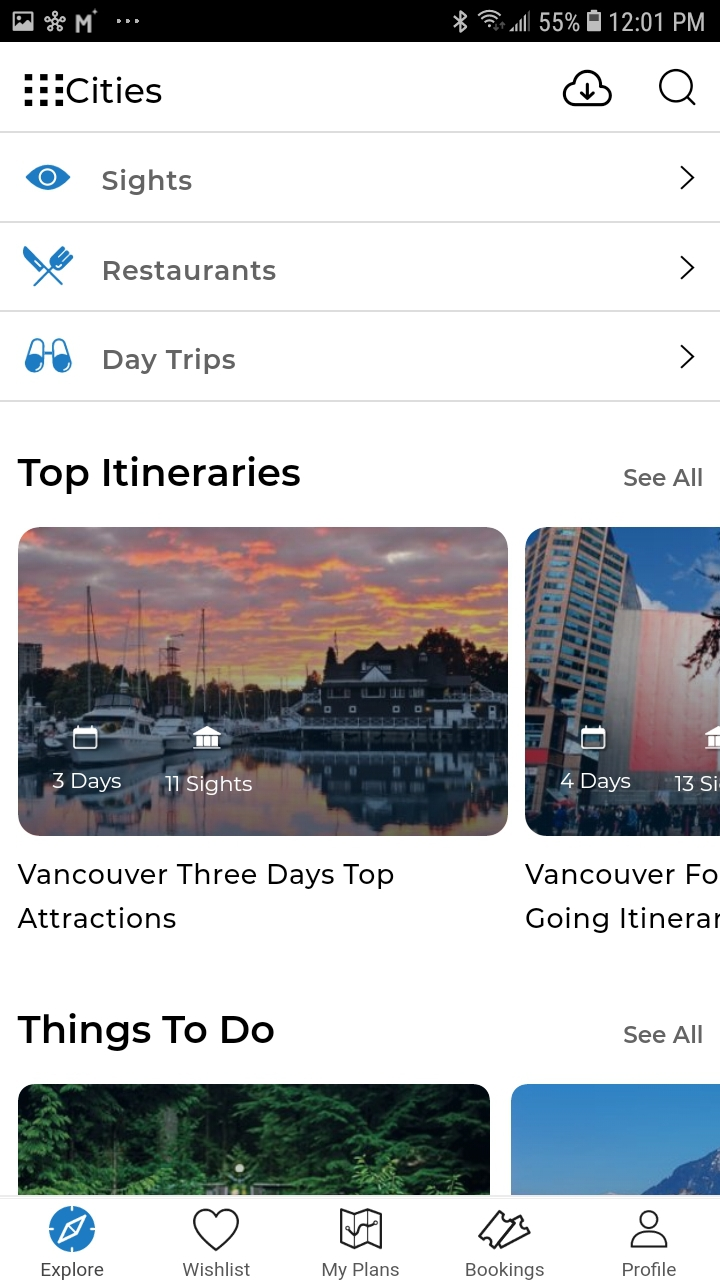Icon: (478, 1209, 532, 1250), (49, 1206, 96, 1253), (193, 1208, 240, 1252), (563, 70, 613, 108), (339, 1207, 383, 1250), (630, 1210, 668, 1249), (658, 69, 696, 107), (25, 74, 65, 108), (25, 165, 72, 191), (580, 725, 606, 750), (73, 725, 99, 750), (193, 727, 221, 750), (680, 345, 696, 370), (679, 256, 695, 281), (679, 166, 695, 191)
Image: (18, 527, 509, 837), (525, 528, 720, 836), (19, 1084, 490, 1195), (512, 1085, 720, 1195), (23, 246, 75, 287), (25, 338, 73, 374), (705, 726, 720, 749)
Text: (18, 863, 394, 929), (525, 864, 720, 933), (18, 456, 301, 495), (18, 1012, 275, 1052), (104, 348, 236, 376), (104, 261, 276, 281), (67, 76, 162, 104), (103, 169, 193, 196), (165, 775, 253, 796), (624, 467, 703, 487), (466, 1261, 545, 1280), (323, 1261, 400, 1280), (53, 772, 122, 793), (624, 1025, 702, 1043), (561, 773, 630, 792), (42, 1262, 104, 1280), (183, 1262, 251, 1277), (622, 1261, 676, 1277), (675, 776, 720, 792)
UpperTaskBar: (1, 1, 720, 43)
